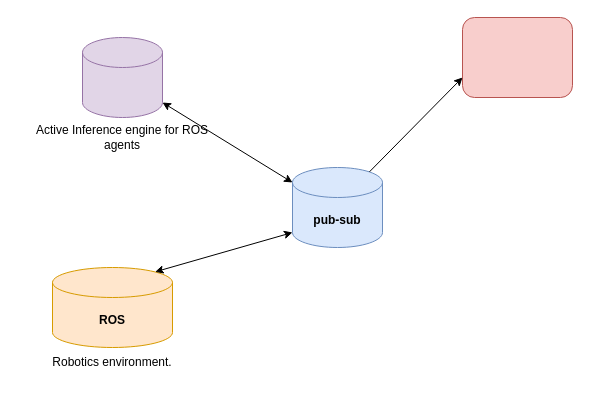
This 590x405 diagram has some shape labels left out. Here are the shapes that lost their labels. From the top down, the box of each, then its label:
(82, 36, 162, 118): rxinfer
(462, 16, 572, 98): Dashboard
